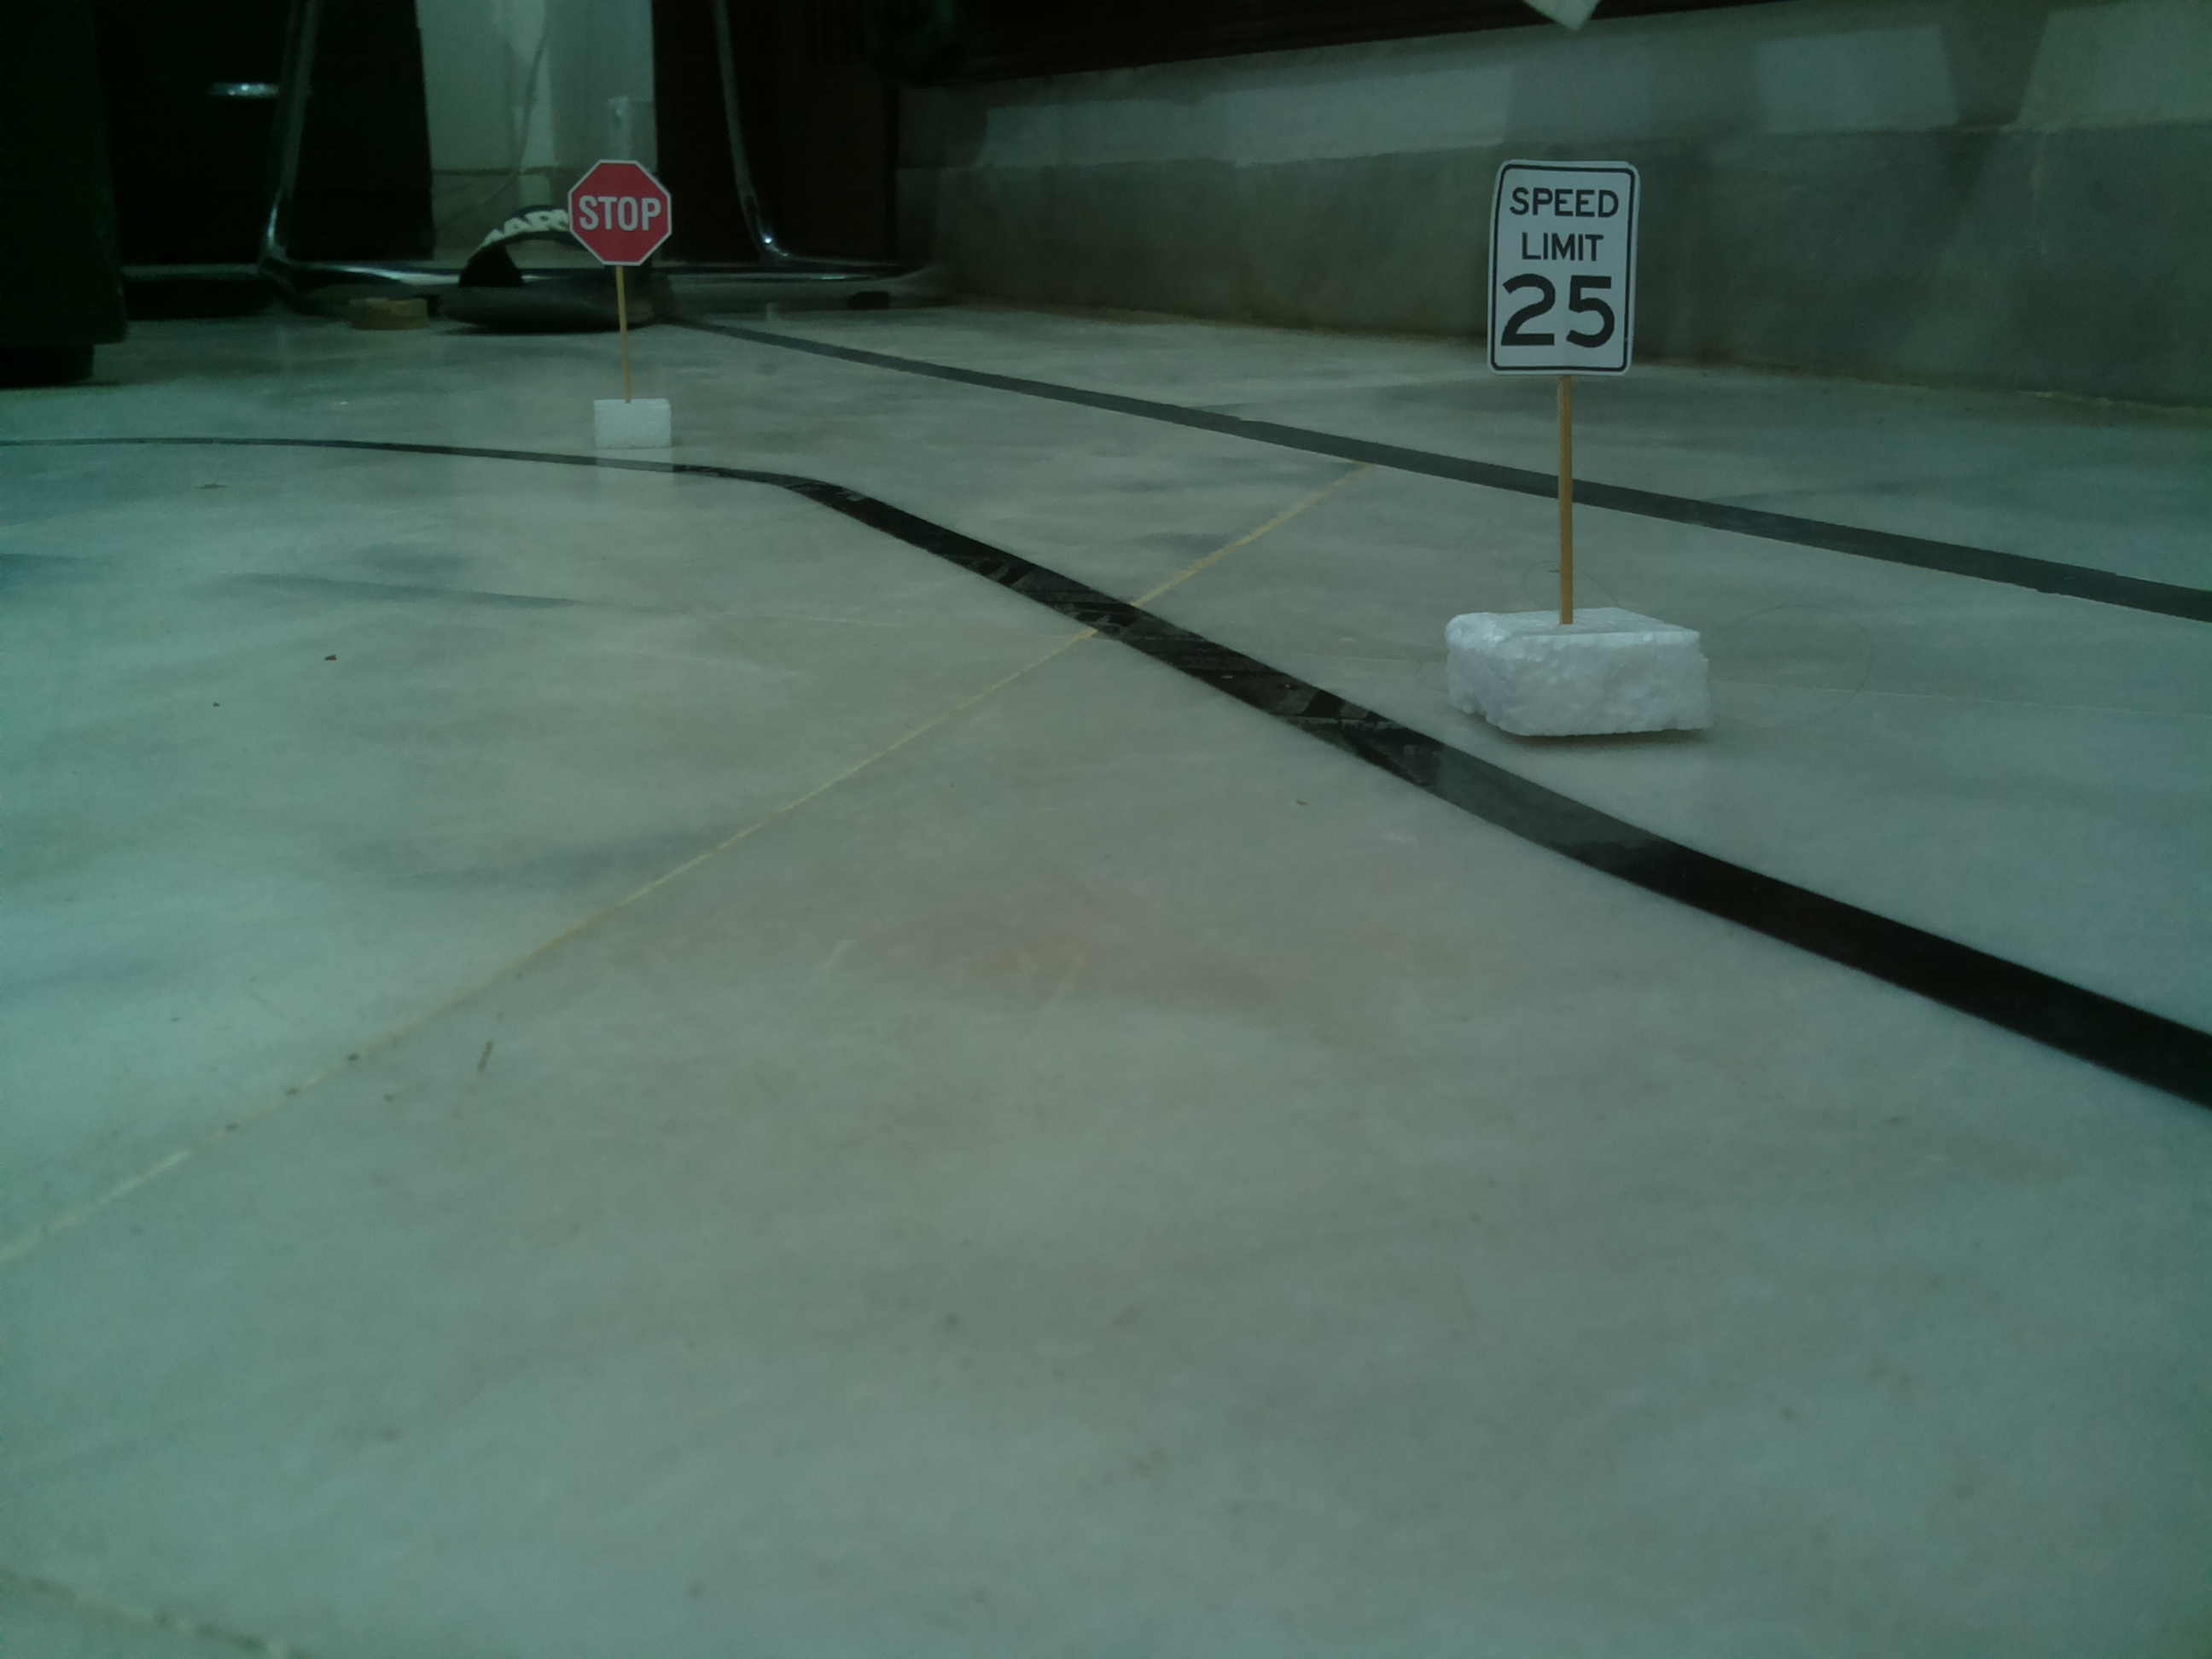Speed limit 25: (1480, 152, 1646, 385)
Stop sign: (564, 157, 678, 272)
